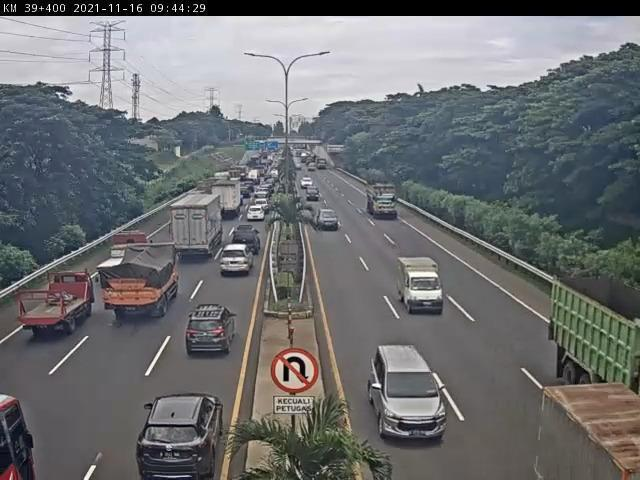car: (368, 346, 448, 441), (138, 395, 225, 480), (186, 307, 237, 360), (219, 248, 251, 280), (232, 227, 260, 257), (319, 210, 340, 230), (248, 206, 267, 221)
truck: (554, 280, 640, 419), (98, 245, 178, 325), (15, 274, 95, 337), (168, 198, 219, 261), (395, 255, 447, 312), (94, 231, 152, 276), (365, 185, 399, 221), (211, 184, 240, 218)
